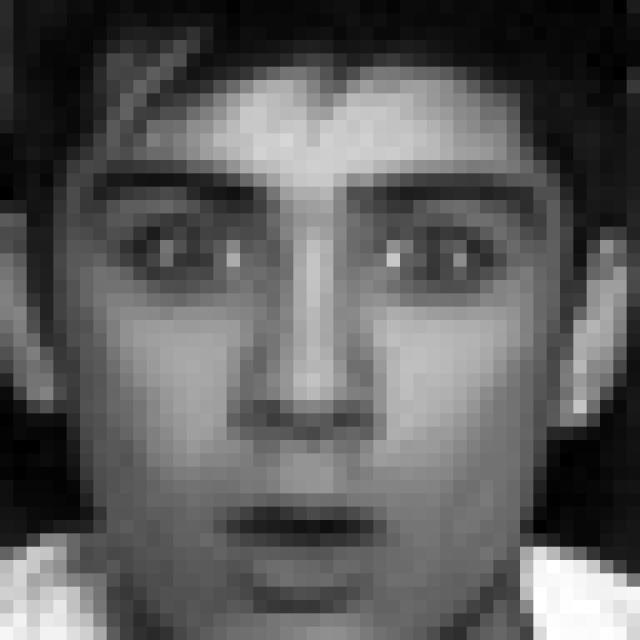surprise: (82, 164, 545, 614)
